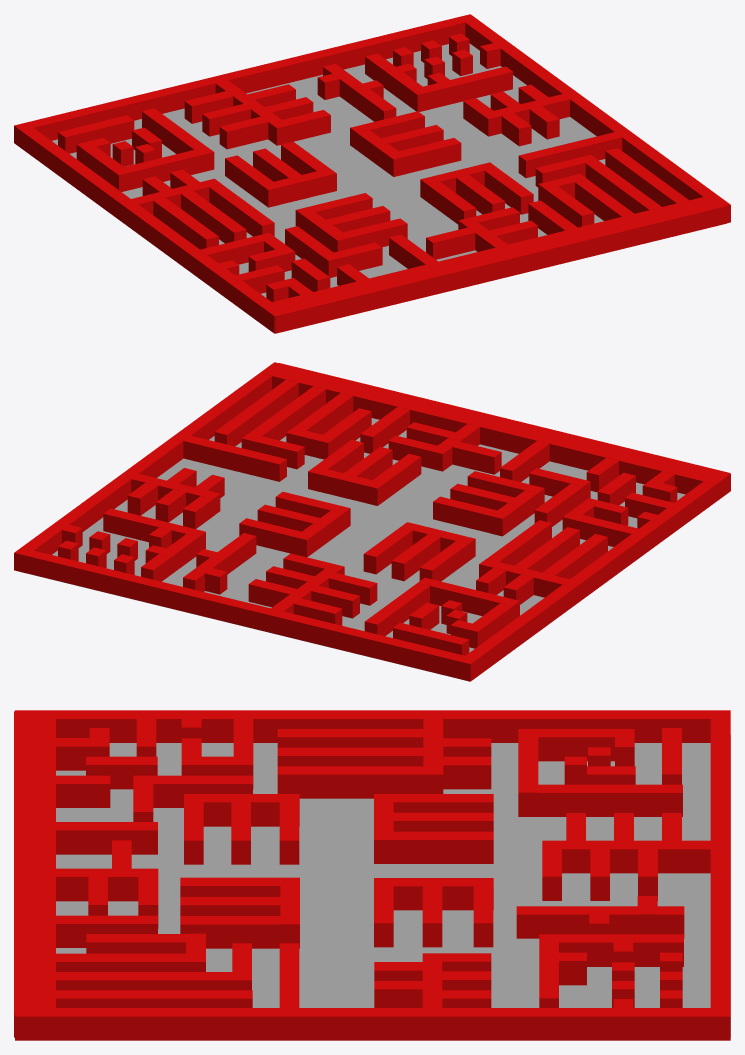
Rendered from level3.fbx.
The picture shows the model from 3 angles, top to bottom: view 1: azimuth 30°, elevation 25°; view 2: azimuth 150°, elevation 25°; view 3: azimuth 270°, elevation 25°; orthographic projection. The views are drawn at different scales.
Visible parts, largest first — view 1: walls, floor; view 2: walls, floor; view 3: walls, floor.
Part boxes in pixels (left/top/right/bottom): walls: left=14, top=14, right=730, bottom=333; floor: left=52, top=43, right=605, bottom=297; walls: left=14, top=362, right=730, bottom=681; floor: left=18, top=418, right=685, bottom=681; walls: left=14, top=710, right=730, bottom=1040; floor: left=56, top=735, right=730, bottom=1037.
Size of the model in its own units: 50.54 by 1.86 by 50.04.
